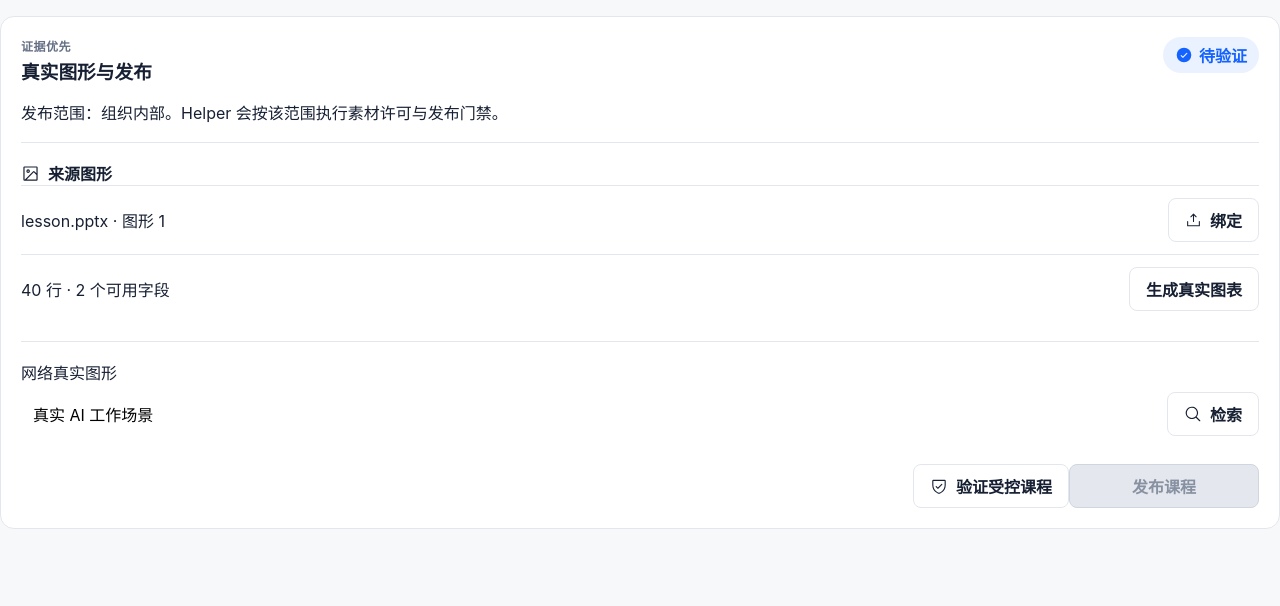
Test: GovernedCoursePanel › binds a source visual, validates the pinned projection, and publishes through Helper
The width and height of the screenshot is (1280, 606).
Check: the text "发布范围：组织内部。Helper 会按该范围执行素材许可与发布门禁。" is shown, box [21,103,508,123]
Click the button "生成真实图表". click: [1194, 289]
box: [1129,267,1259,311]
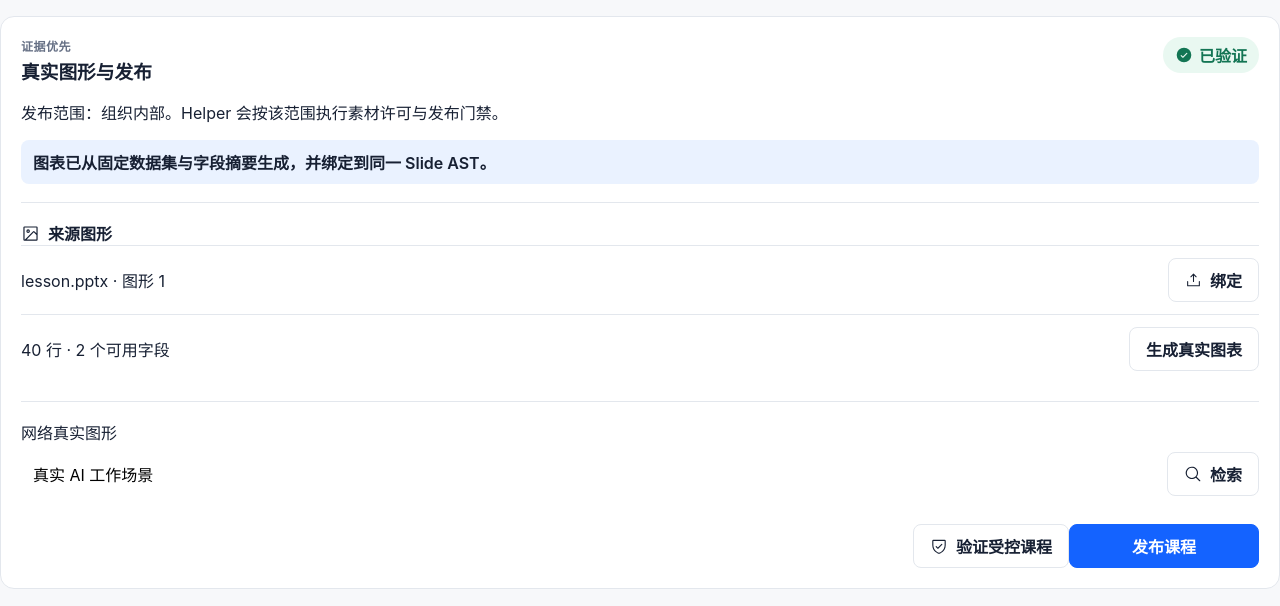
Click the button "绑定". click: [1214, 280]
box: [1168,258,1259,302]
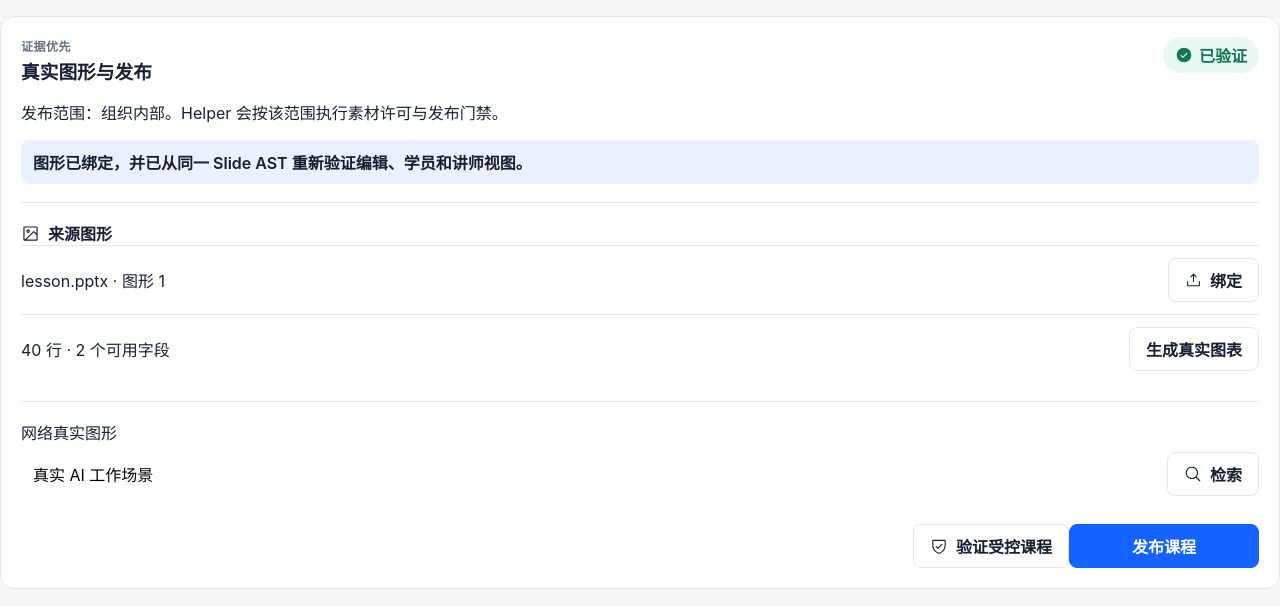
Check: the button "发布课程" is enabled
Click the button "发布课程". click: [1164, 546]
box: [1069,524,1259,568]
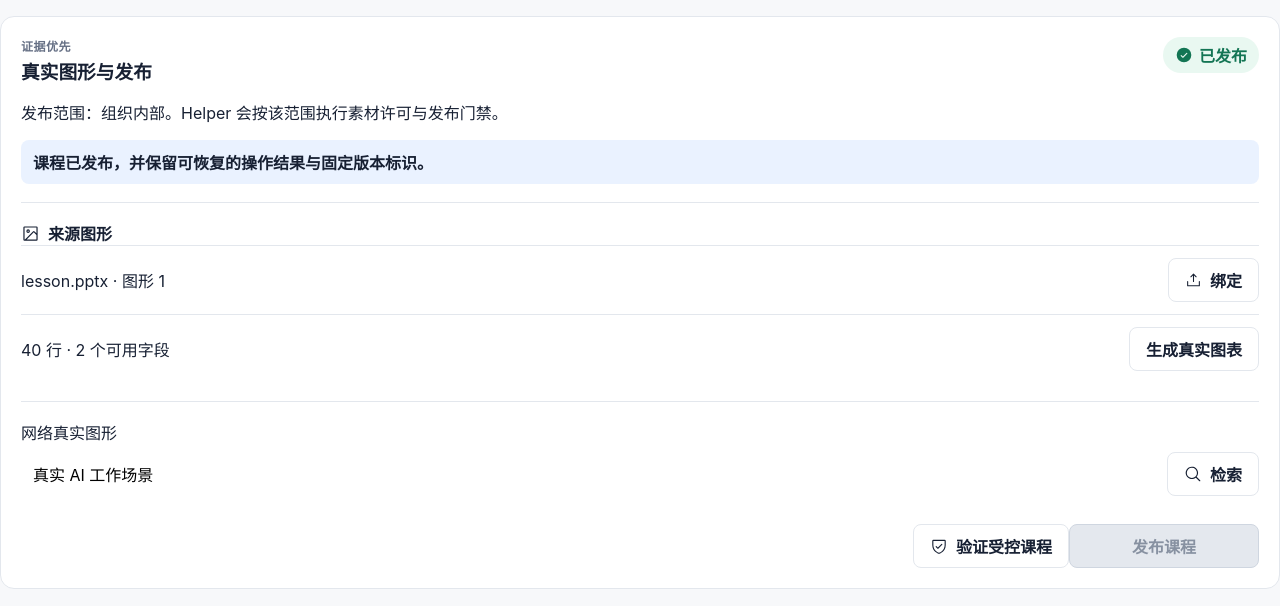
Check: the text "课程已发布，并保留可恢复的操作结果与固定版本标识。" is shown, box [21,140,1259,184]
